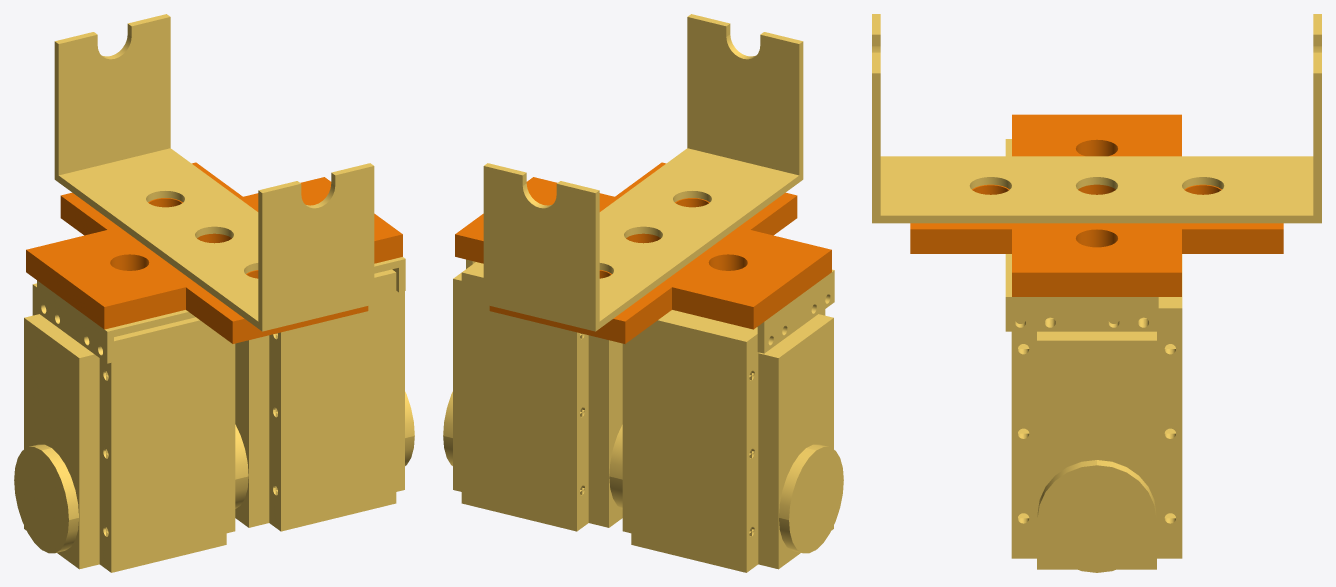
The picture shows the model from 3 angles, left to right: view 1: azimuth 30°, elevation 25°; view 2: azimuth 150°, elevation 25°; view 3: azimuth 270°, elevation 25°; orthographic projection. The views are drawn at different scales.
Visible parts, largest first — view 1: group_3 (×2), FR08-H110, group_2 (×2), X (×2), group_1 (×2), FR05-S101 (×2); view 2: group_3 (×2), FR08-H110, group_2 (×2), X (×2), group_1 (×2), FR05-S101; view 3: FR08-H110, X (×3), group_2, group_3, group_1, FR05-S101.
Boxes of the visible parts, x1,y1,x2,y2 form: group_3 (×2): [32, 269, 396, 572]; FR08-H110: [54, 14, 374, 331]; group_2 (×2): [24, 291, 404, 569]; X (×2): [26, 162, 402, 343]; group_1 (×2): [14, 391, 414, 553]; FR05-S101 (×2): [37, 257, 405, 363]; group_3 (×2): [461, 262, 825, 572]; FR08-H110: [483, 14, 803, 331]; group_2 (×2): [453, 273, 833, 569]; X (×2): [455, 162, 831, 343]; group_1 (×2): [443, 391, 843, 553]; FR05-S101: [757, 269, 834, 353]; FR08-H110: [872, 14, 1321, 223]; X (×3): [910, 114, 1283, 296]; group_2: [1037, 331, 1156, 569]; group_3: [1011, 254, 1182, 558]; group_1: [1037, 460, 1156, 572]; FR05-S101: [1005, 254, 1158, 331].
Size of the model in its own units: 4.02 by 4.17 by 4.5.
